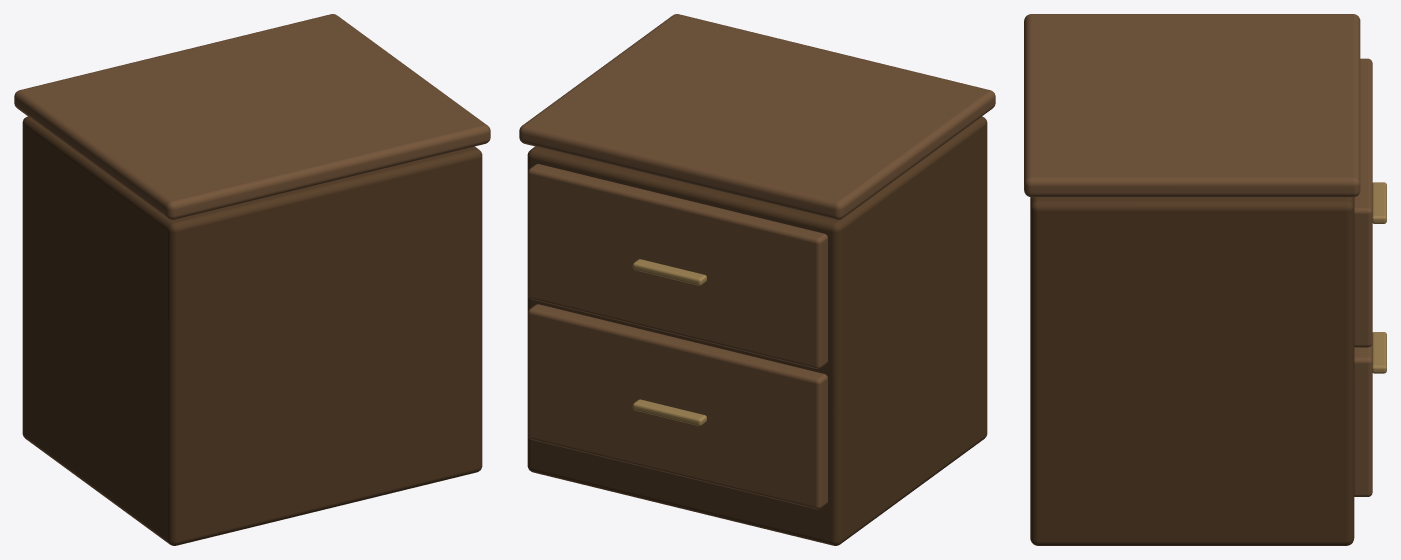
File: nightstand.glb
3 views of the same model, side by side, from view 1: azimuth 30°, elevation 25°; view 2: azimuth 150°, elevation 25°; view 3: azimuth 270°, elevation 25° (orthographic). The views are drawn at different scales.
Parts seen in each view (by area): view 1: Carcass, Oak top; view 2: Carcass, Oak top, Drawer front, Drawer front.001, Brass handle.001, Brass handle; view 3: Carcass, Oak top, Drawer front.001, Drawer front, Brass handle, Brass handle.001.
Boxes of the visible parts, bbox=[...] form: Carcass: bbox=[22, 116, 482, 545]; Oak top: bbox=[14, 14, 490, 219]; Carcass: bbox=[527, 116, 987, 545]; Oak top: bbox=[519, 14, 995, 219]; Drawer front: bbox=[528, 304, 827, 509]; Drawer front.001: bbox=[528, 164, 827, 368]; Brass handle.001: bbox=[632, 259, 706, 285]; Brass handle: bbox=[632, 399, 706, 425]; Carcass: bbox=[1030, 197, 1354, 545]; Oak top: bbox=[1024, 14, 1360, 197]; Drawer front.001: bbox=[1354, 58, 1372, 347]; Drawer front: bbox=[1354, 344, 1372, 496]; Brass handle: bbox=[1372, 332, 1386, 373]; Brass handle.001: bbox=[1372, 182, 1386, 223].
Bounding box in the file's own units: 0.64 × 0.6575 × 0.5825.
